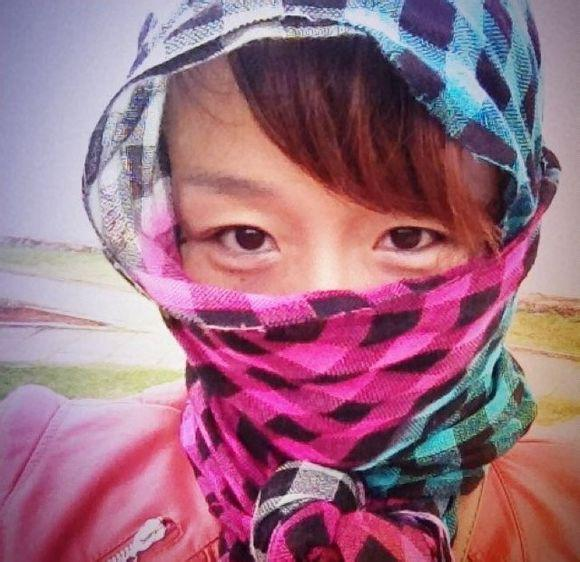OK: (167, 163, 462, 458)
